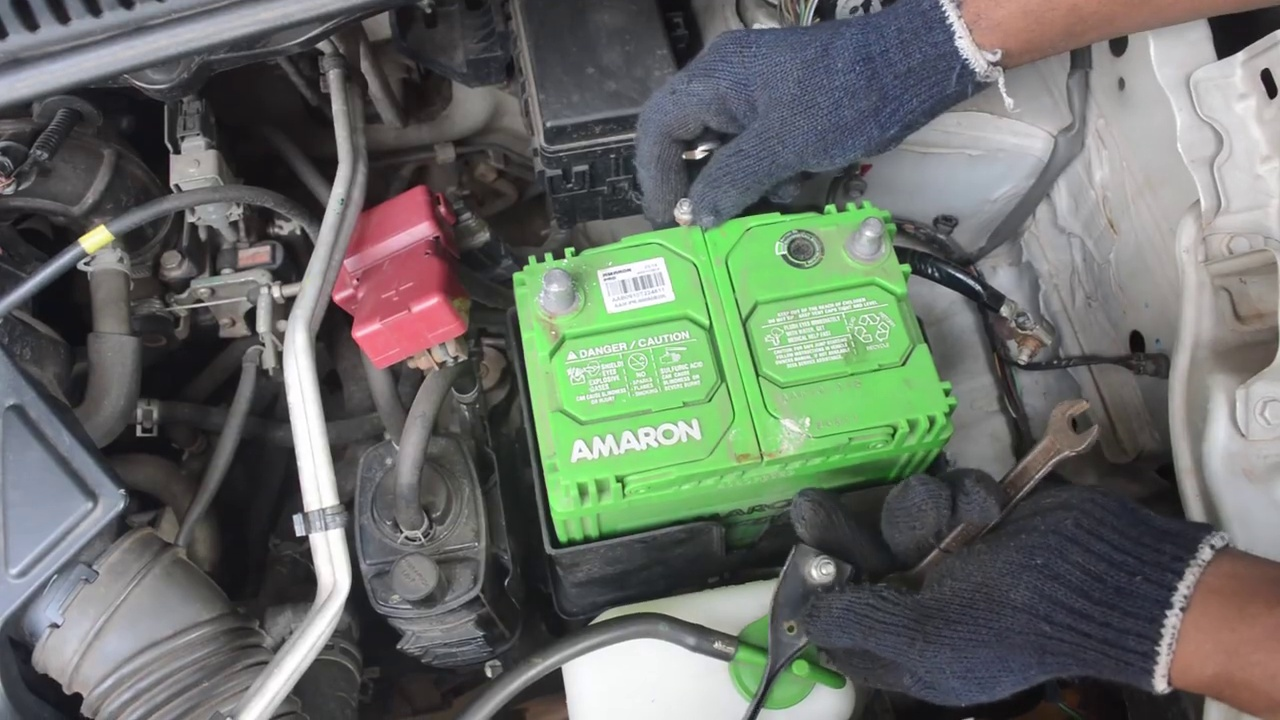battery: (513, 199, 960, 503)
neg_disconnected: (811, 186, 927, 283)
pos_disconnected: (330, 187, 609, 344)
